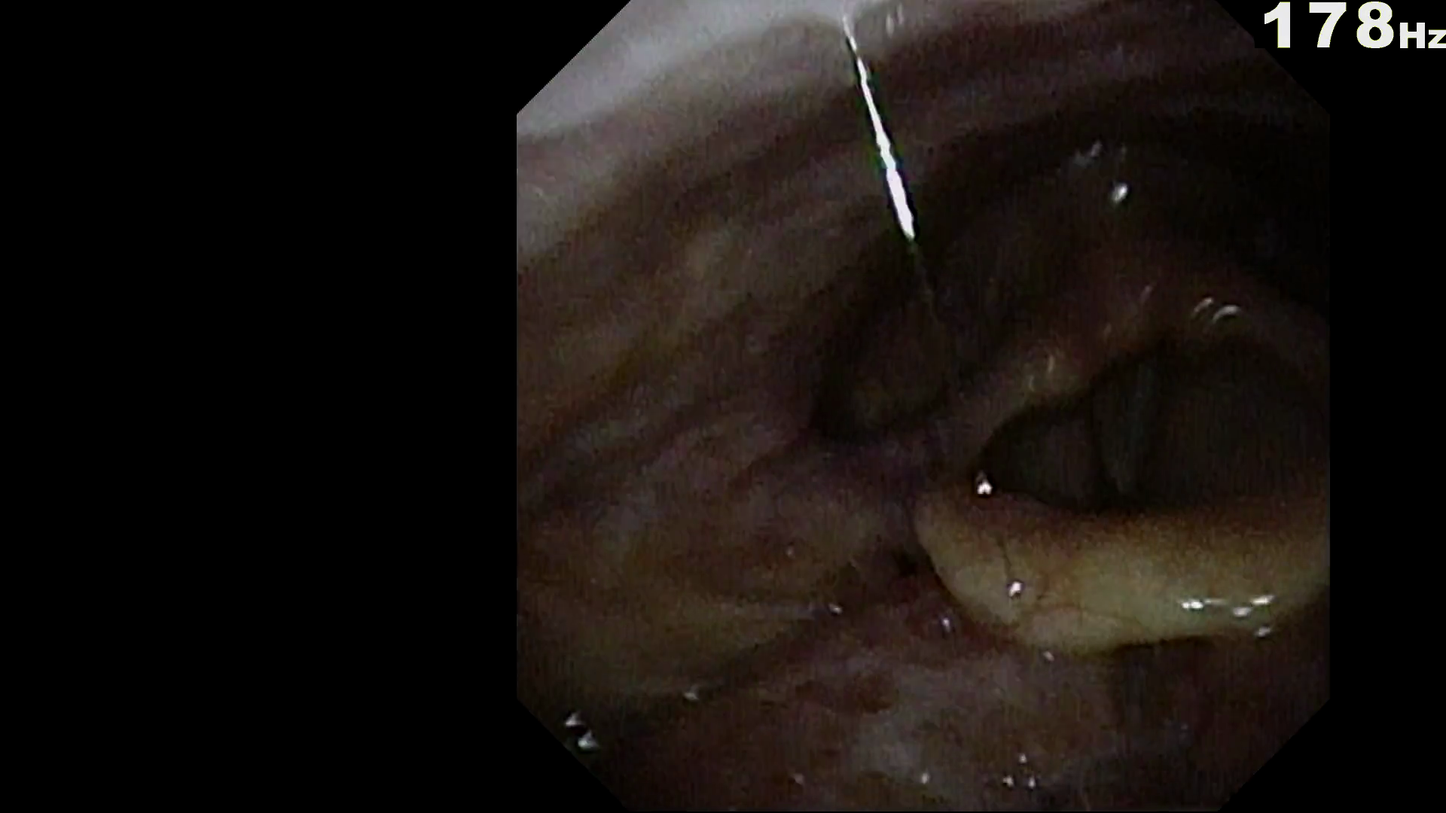epiglottis: (892, 483, 1311, 676)
trachea: (1058, 374, 1193, 521)
